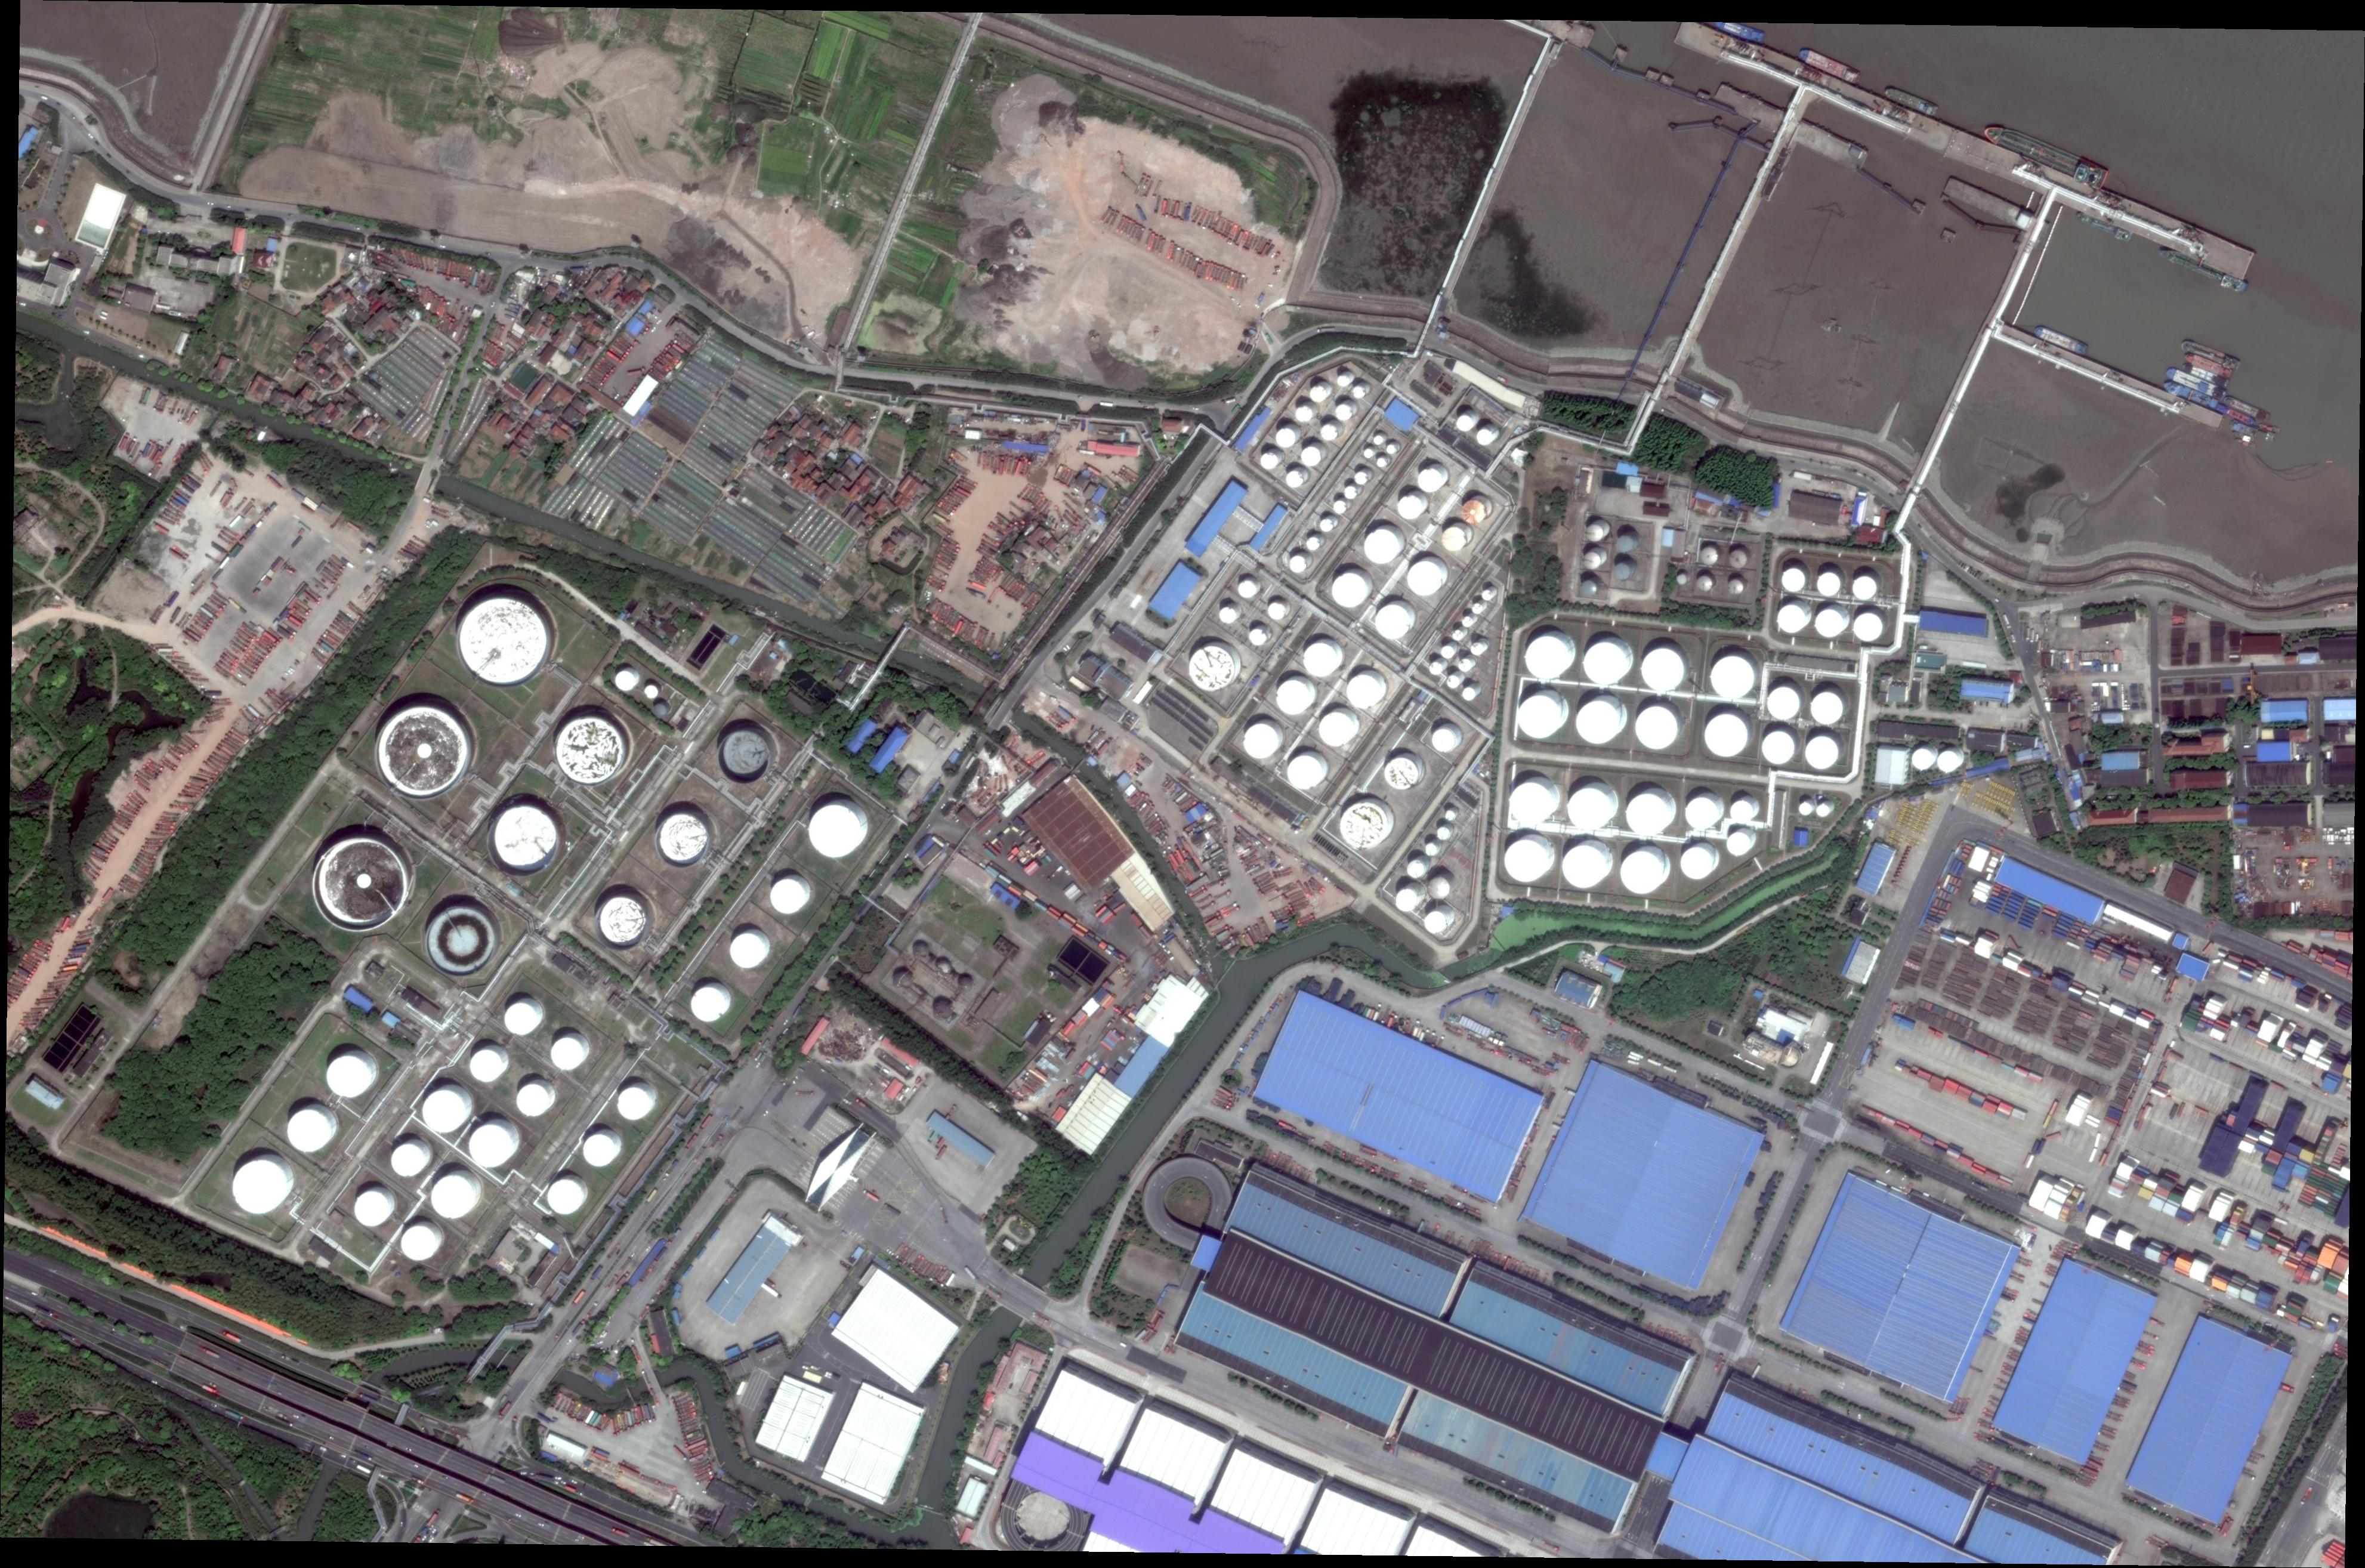ship: (1980, 121, 2110, 189), (2157, 245, 2248, 294), (1796, 45, 1863, 87), (2181, 338, 2241, 371), (1882, 84, 1938, 119), (2162, 378, 2220, 411), (2033, 324, 2089, 357), (2075, 210, 2132, 241), (2183, 352, 2234, 378), (2223, 394, 2271, 422), (1707, 23, 1765, 45), (2181, 362, 2230, 388), (2216, 402, 2258, 427)
